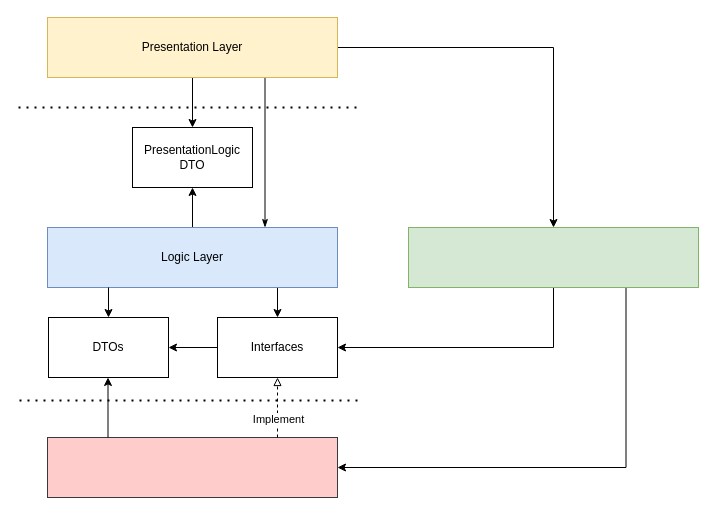
Image size: 716x515. Some labels were removed from this diagram. The centre of each missing label's shape, as x and y in pixels:
Dal Layer: point (192, 467)
Factory Layer: point (553, 257)
